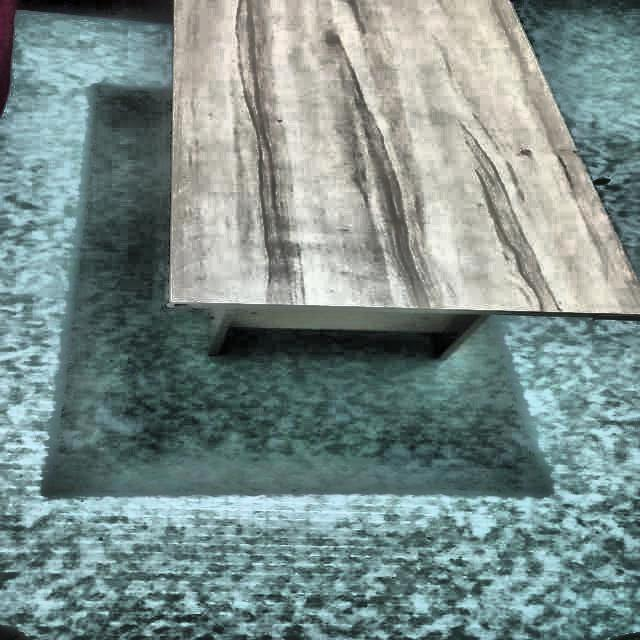mesa: (140, 0, 639, 368)
